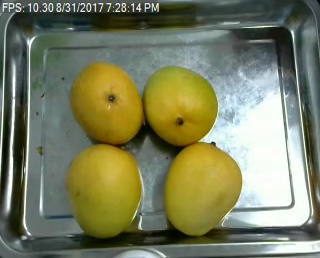Mango: (68, 144, 142, 236), (166, 141, 240, 233), (69, 64, 145, 144), (143, 64, 217, 145)
